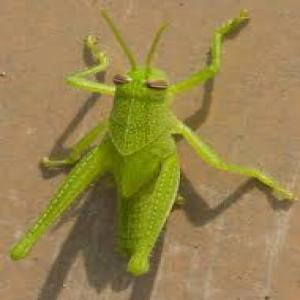locust: (34, 1, 270, 273)
